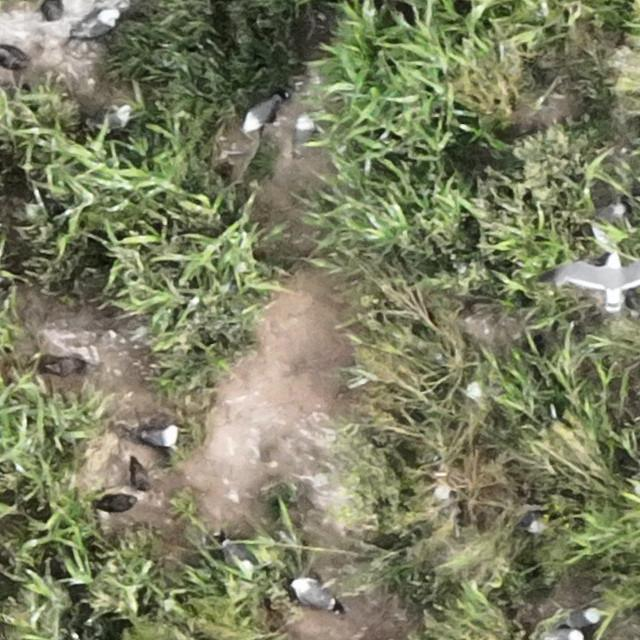F: (561, 256, 640, 306)
umineko: (74, 9, 129, 38), (223, 543, 254, 581), (294, 582, 335, 609), (95, 104, 132, 131), (560, 603, 604, 625), (245, 99, 276, 129), (468, 360, 486, 402), (143, 427, 178, 447), (524, 511, 554, 534), (294, 116, 313, 152), (545, 627, 578, 639)
